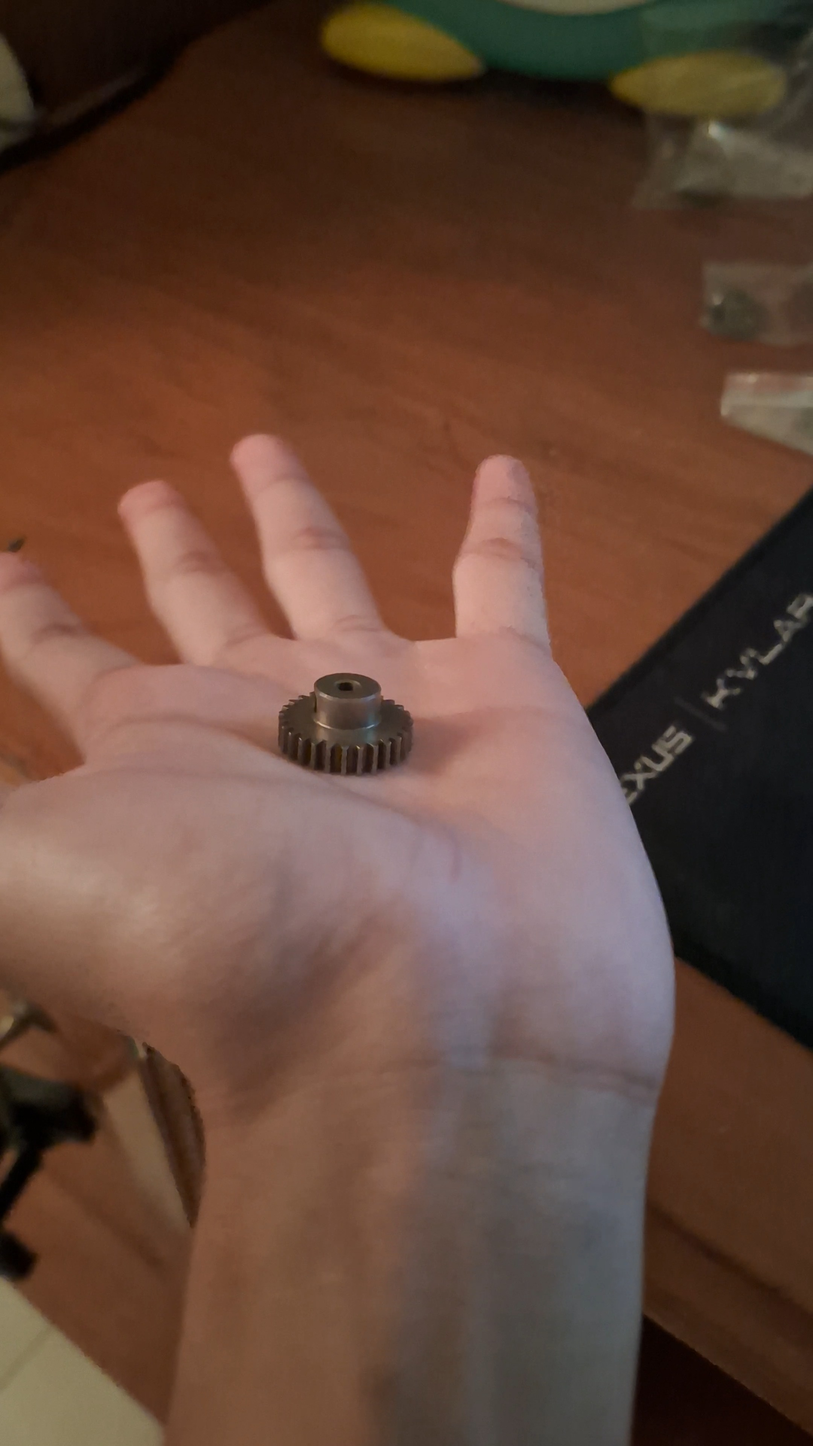spur gear: (279, 673, 412, 775)
